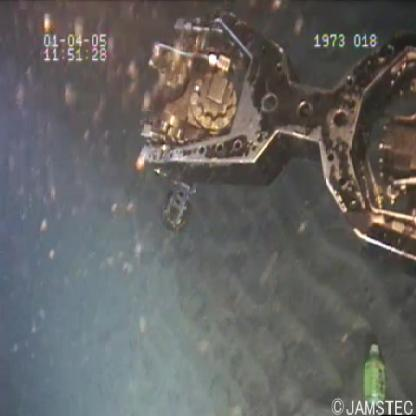Rov: (131, 7, 416, 266)
Rác: (352, 337, 395, 414)
